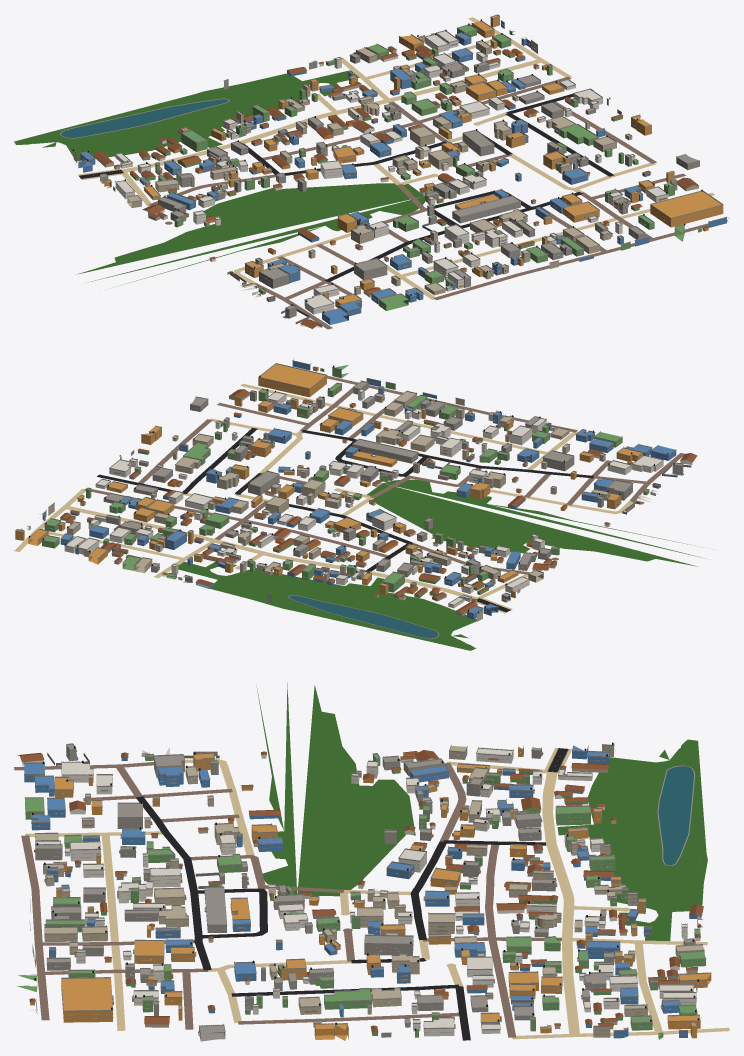
File: zone_t-6_1.glb
3 renders of one model, top to bottom at view 1: azimuth 30°, elevation 25°; view 2: azimuth 150°, elevation 25°; view 3: azimuth 270°, elevation 25°, orthographic. The views are drawn at different scales.
Parts seen in each view (by area): view 1: zone_humide_t-6_1, parapet_t-6_1, bld_peinture_ocre_t-6_1-col, bld_beton_t-6_1-col, bld_peinture_blanc_t-6_1-col, bld_peinture_vert_t-6_1-col, bld_peinture_ecaillee_t-6_1-col, bld_peinture_bleu_t-6_1-col, toit_tole_t-6_1, route_residential_paves_t-6_1, route_residential_terre_t-6_1, bandeau_t-6_1 (+4 smaller); view 2: zone_humide_t-6_1, parapet_t-6_1, bld_peinture_ocre_t-6_1-col, bld_peinture_blanc_t-6_1-col, bld_beton_t-6_1-col, bld_peinture_ecaillee_t-6_1-col, bld_peinture_bleu_t-6_1-col, bld_peinture_vert_t-6_1-col, route_residential_paves_t-6_1, toit_tole_t-6_1, route_residential_terre_t-6_1, bandeau_t-6_1 (+4 smaller); view 3: zone_humide_t-6_1, parapet_t-6_1, bld_peinture_blanc_t-6_1-col, bld_peinture_ocre_t-6_1-col, bld_beton_t-6_1-col, bld_peinture_bleu_t-6_1-col, bld_peinture_ecaillee_t-6_1-col, bld_peinture_vert_t-6_1-col, route_residential_paves_t-6_1, toit_tole_t-6_1, route_residential_terre_t-6_1, route_residential_bitume_t-6_1 (+5 smaller).
Boxes of the visible parts, left/top/right/bottom form: zone_humide_t-6_1: left=14, top=70, right=424, bottom=286; parapet_t-6_1: left=74, top=14, right=729, bottom=318; bld_peinture_ocre_t-6_1-col: left=104, top=15, right=723, bottom=308; bld_beton_t-6_1-col: left=100, top=49, right=699, bottom=318; bld_peinture_blanc_t-6_1-col: left=115, top=31, right=668, bottom=327; bld_peinture_vert_t-6_1-col: left=130, top=25, right=701, bottom=310; bld_peinture_ecaillee_t-6_1-col: left=73, top=36, right=698, bottom=295; bld_peinture_bleu_t-6_1-col: left=78, top=21, right=726, bottom=324; toit_tole_t-6_1: left=93, top=45, right=708, bottom=328; route_residential_paves_t-6_1: left=148, top=76, right=728, bottom=329; route_residential_terre_t-6_1: left=121, top=17, right=714, bottom=299; bandeau_t-6_1: left=73, top=19, right=726, bottom=321; zone_humide_t-6_1: left=178, top=479, right=705, bottom=650; parapet_t-6_1: left=15, top=358, right=683, bottom=613; bld_peinture_ocre_t-6_1-col: left=15, top=364, right=642, bottom=598; bld_peinture_blanc_t-6_1-col: left=64, top=389, right=692, bottom=608; bld_beton_t-6_1-col: left=103, top=381, right=683, bottom=602; bld_peinture_ecaillee_t-6_1-col: left=48, top=391, right=609, bottom=621; bld_peinture_bleu_t-6_1-col: left=22, top=361, right=676, bottom=619; bld_peinture_vert_t-6_1-col: left=27, top=365, right=649, bottom=597; route_residential_paves_t-6_1: left=84, top=375, right=684, bottom=574; toit_tole_t-6_1: left=60, top=366, right=697, bottom=613; route_residential_terre_t-6_1: left=14, top=383, right=633, bottom=598; bandeau_t-6_1: left=15, top=363, right=682, bottom=619; zone_humide_t-6_1: left=256, top=683, right=707, bottom=941; parapet_t-6_1: left=21, top=743, right=711, bottom=1034; bld_peinture_blanc_t-6_1-col: left=22, top=747, right=700, bottom=1036; bld_peinture_ocre_t-6_1-col: left=30, top=747, right=711, bottom=1040; bld_beton_t-6_1-col: left=35, top=744, right=702, bottom=1041; bld_peinture_bleu_t-6_1-col: left=24, top=746, right=703, bottom=1038; bld_peinture_ecaillee_t-6_1-col: left=30, top=745, right=704, bottom=1037; bld_peinture_vert_t-6_1-col: left=17, top=754, right=705, bottom=1039; route_residential_paves_t-6_1: left=14, top=762, right=561, bottom=1037; toit_tole_t-6_1: left=18, top=750, right=703, bottom=1032; route_residential_terre_t-6_1: left=25, top=758, right=729, bottom=1039; route_residential_bitume_t-6_1: left=135, top=796, right=546, bottom=1040.
Size of the model in its own units: 642 by 12.9 by 534.
